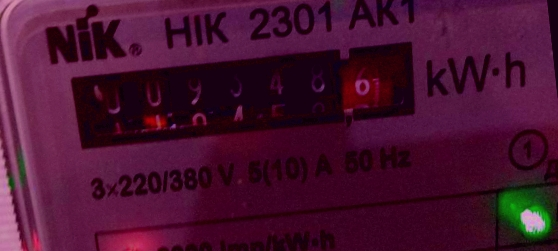0: (140, 73, 164, 111), (99, 79, 123, 116)
3: (221, 65, 247, 99)
4: (261, 61, 286, 100)
6: (349, 61, 374, 97)
8: (304, 58, 328, 94)
9: (182, 69, 204, 105)
screen: (45, 24, 439, 166)
